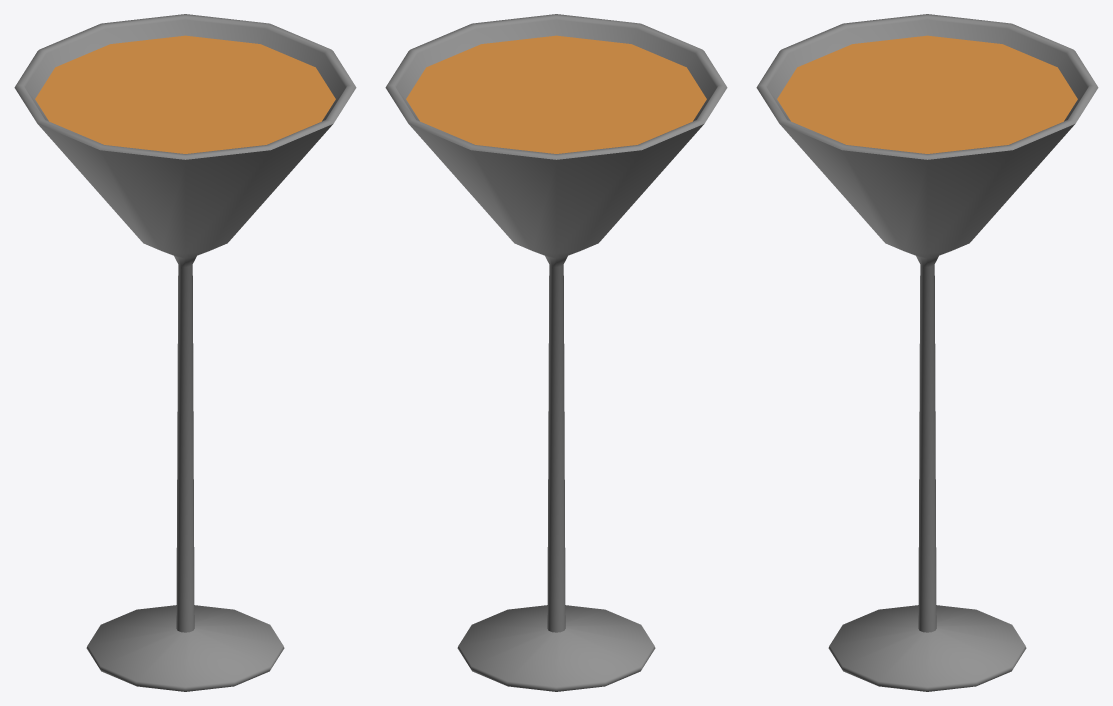
File: Cup-ThinCup.fbx
3 renders of one model, left to right at view 1: azimuth 30°, elevation 25°; view 2: azimuth 150°, elevation 25°; view 3: azimuth 270°, elevation 25°, orthographic.
Visible parts, largest first — view 1: Cup-ThinCup; view 2: Cup-ThinCup; view 3: Cup-ThinCup.
Boxes of the visible parts, left/top/right/bottom form: Cup-ThinCup: left=14, top=14, right=356, bottom=691; Cup-ThinCup: left=385, top=14, right=727, bottom=691; Cup-ThinCup: left=756, top=14, right=1098, bottom=691.
Size of the model in its own units: 381 by 695 by 381.
